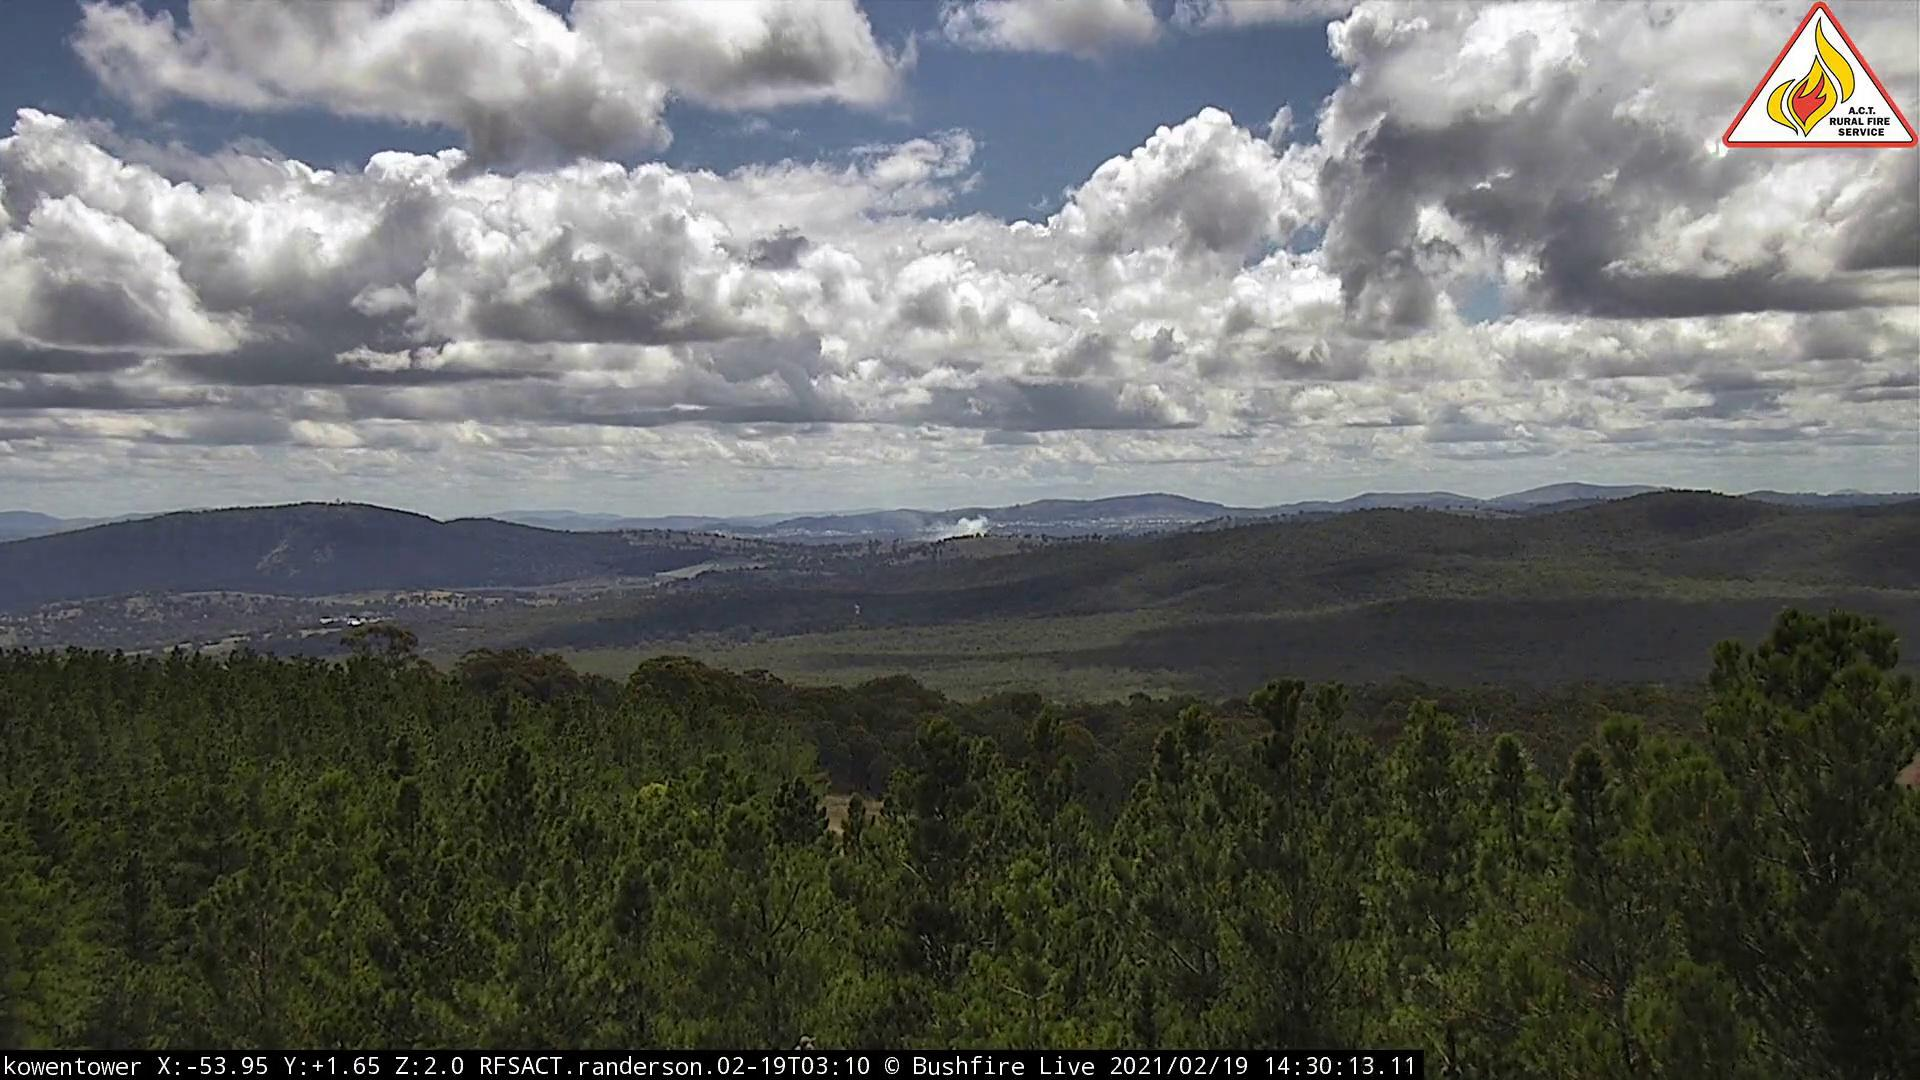instance_salient_object: (902, 498, 1000, 545)
